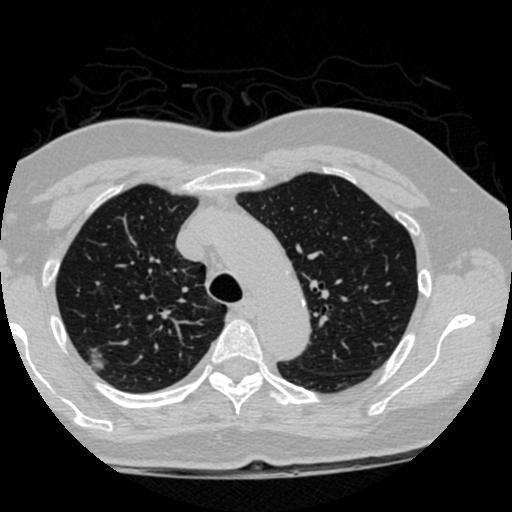nodule: (82, 345, 110, 373)
